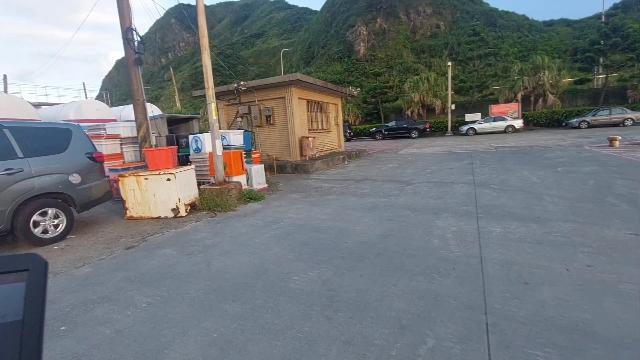pollute: (109, 161, 147, 200), (188, 132, 215, 186), (223, 150, 249, 192), (142, 146, 178, 170), (246, 163, 267, 193), (219, 129, 246, 150), (252, 150, 260, 163)
